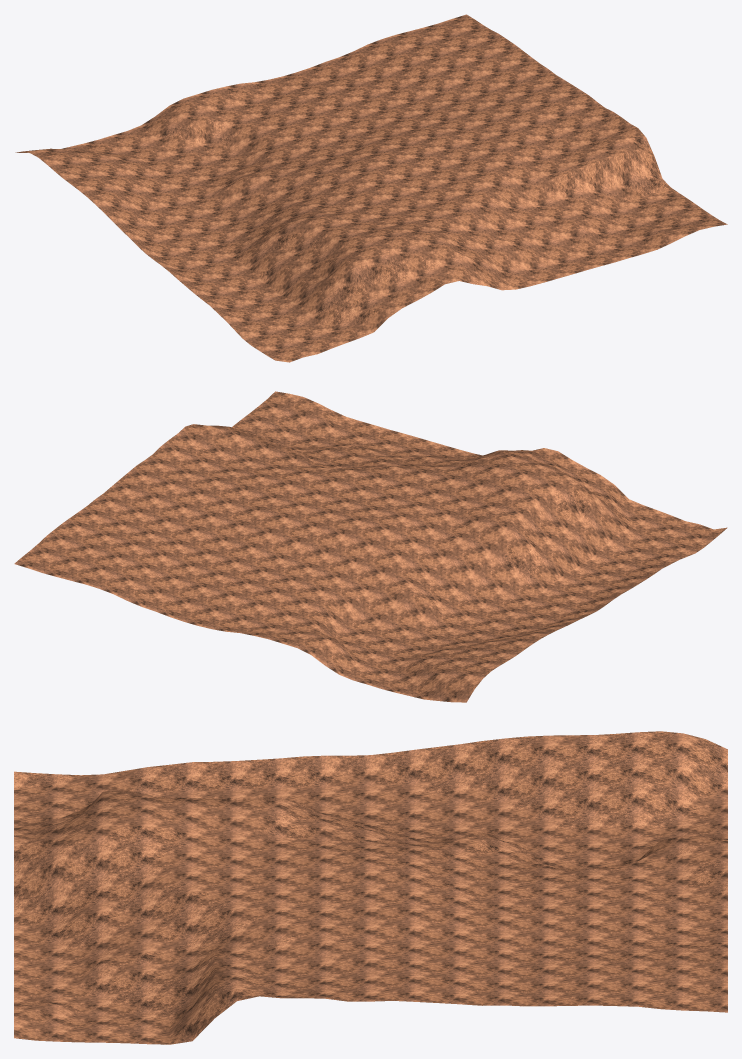
The model's file is terrain_05_17.dae.
3 views of the same model, one above another, from view 1: azimuth 30°, elevation 25°; view 2: azimuth 150°, elevation 25°; view 3: azimuth 270°, elevation 25° (orthographic). The views are drawn at different scales.
Visible parts, largest first — view 1: terrain_05_17-node; view 2: terrain_05_17-node; view 3: terrain_05_17-node.
Part boxes in pixels (x1,y1,x2,y2): terrain_05_17-node: (15, 14, 727, 362); terrain_05_17-node: (14, 391, 727, 702); terrain_05_17-node: (14, 731, 727, 1044).
Bounding box in the file's own units: 128 × 128 × 16.68.
1 material, 1 textured.
